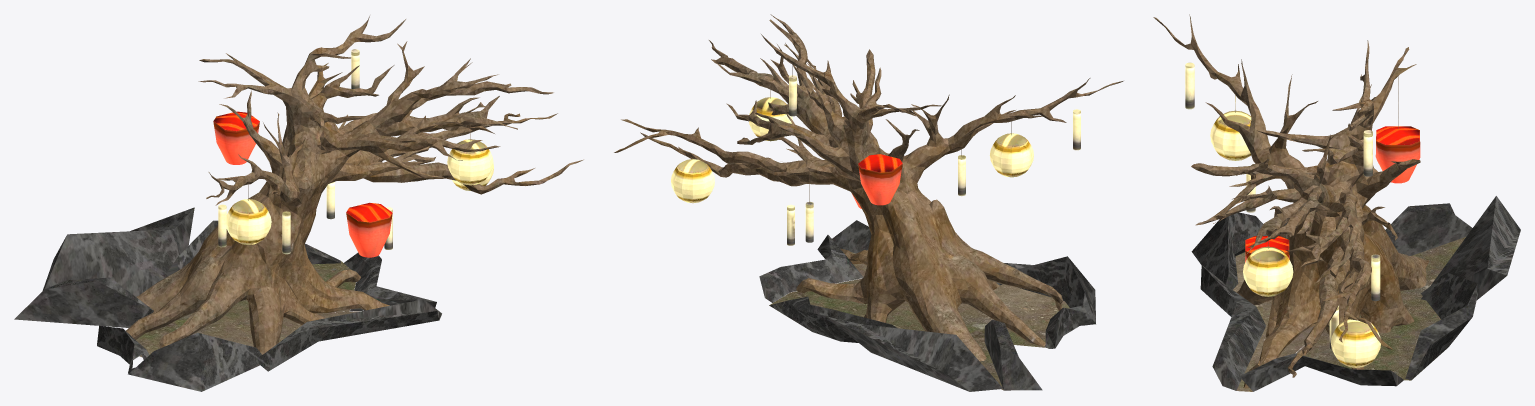
File: deathandrebirth.glb
The picture shows the model from 3 angles, left to right: view 1: azimuth 30°, elevation 25°; view 2: azimuth 150°, elevation 25°; view 3: azimuth 270°, elevation 25°; orthographic projection. The views are drawn at different scales.
Visible parts, largest first — view 1: BIP_Lanterntree_2k; view 2: BIP_Lanterntree_2k; view 3: BIP_Lanterntree_2k.
Boxes of the visible parts, x1=… form: BIP_Lanterntree_2k: x1=14, y1=16, x2=583, y2=391; BIP_Lanterntree_2k: x1=614, y1=14, x2=1123, y2=391; BIP_Lanterntree_2k: x1=1153, y1=14, x2=1520, y2=391.
Bounding box in the file's own units: 24.16 × 11.91 × 14.24.
1 material, 1 textured.
